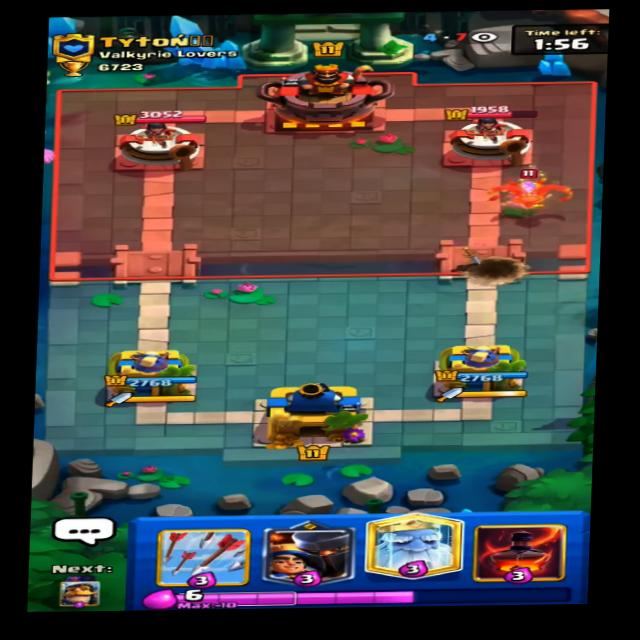phoenix: (473, 166, 583, 214)
